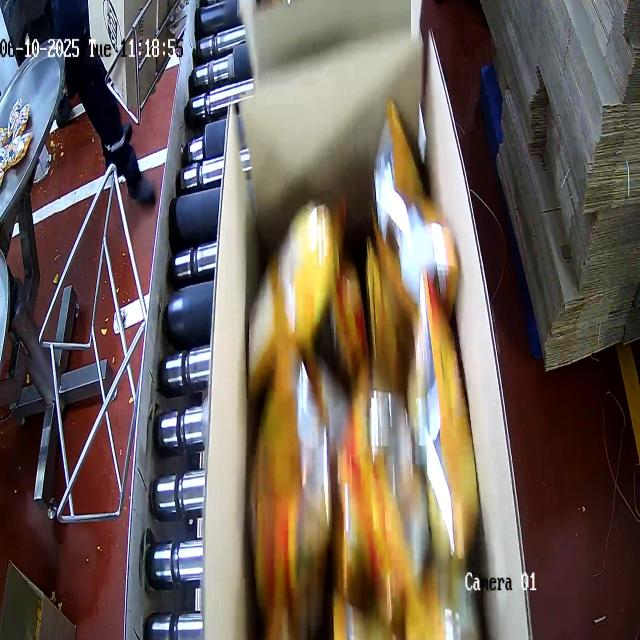FRENCH_CHEESE: (232, 134, 476, 640)
